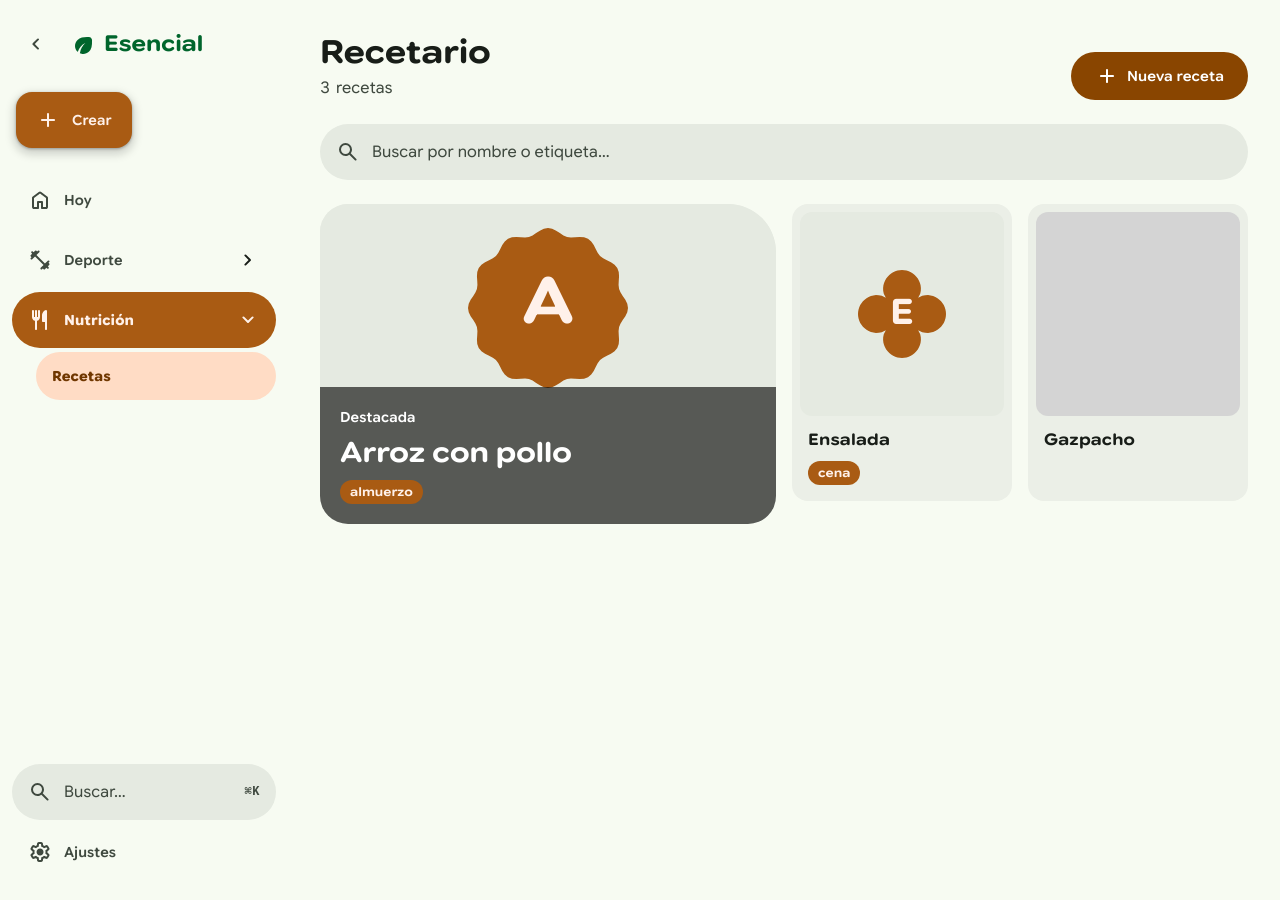
Test: /recetario book › search matches by tag too
Expected: the text "Arroz con pollo" is shown, [340,435,572,470]
In the search field with placeholder "Buscar por nombre o etiqueta…": (802,152) [372,128,1232,176], type "cena"
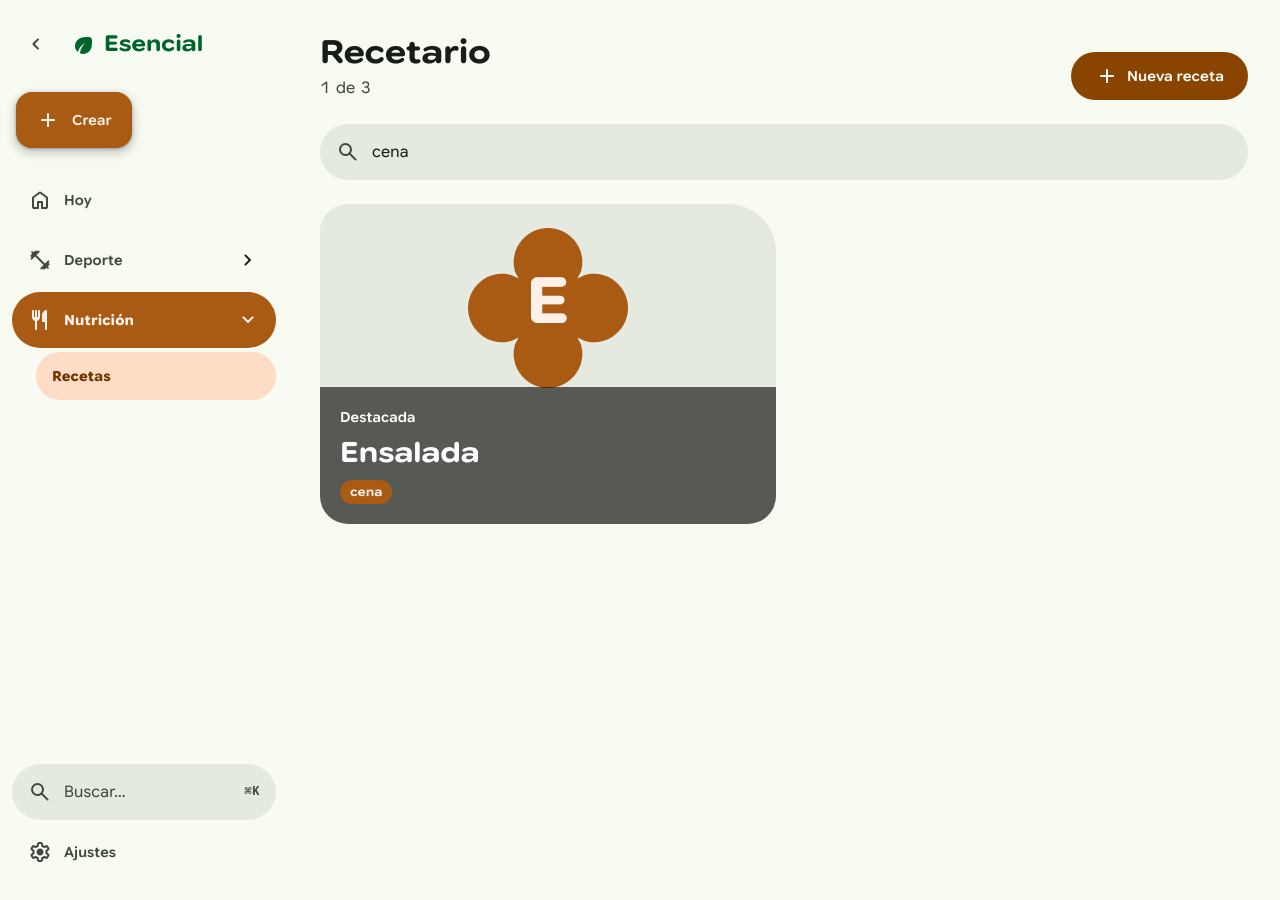
Expected: the text "Ensalada" is shown, [340,435,480,470]
Expected: the link "Gazpacho" is gone
